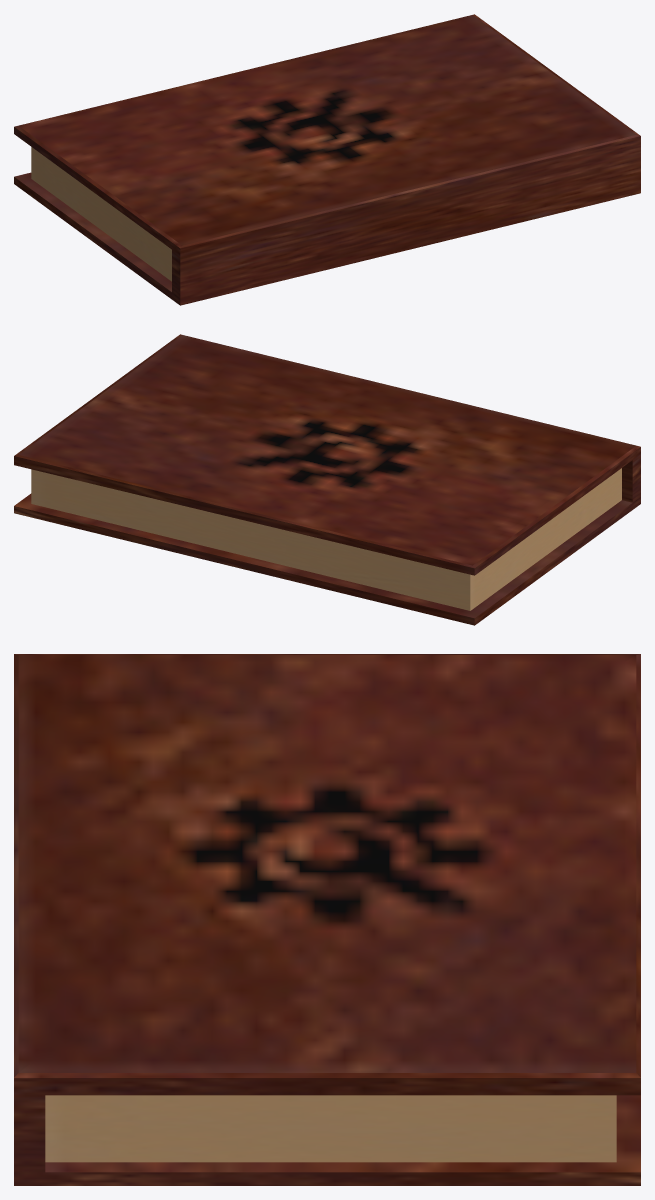
The model's file is Manual.fbx.
The picture shows the model from 3 angles, top to bottom: view 1: azimuth 30°, elevation 25°; view 2: azimuth 150°, elevation 25°; view 3: azimuth 270°, elevation 25°; orthographic projection. The views are drawn at different scales.
Parts seen in each view (by area): view 1: Tapa Sup, Tapa, Hojas; view 2: Tapa Sup, Hojas, Tapa; view 3: Tapa Sup, Hojas, Tapa.
Part boxes in pixels (x1,y1,x2,y2): Tapa Sup: (14, 14, 640, 249); Tapa: (14, 136, 640, 305); Hojas: (31, 147, 171, 281); Tapa Sup: (14, 334, 640, 575); Hojas: (31, 468, 621, 610); Tapa: (14, 447, 640, 625); Tapa Sup: (14, 654, 640, 1095); Hojas: (45, 1095, 616, 1162); Tapa: (14, 1078, 640, 1185).
Bounding box in the file's own units: 3.2 × 25.6 × 16.
